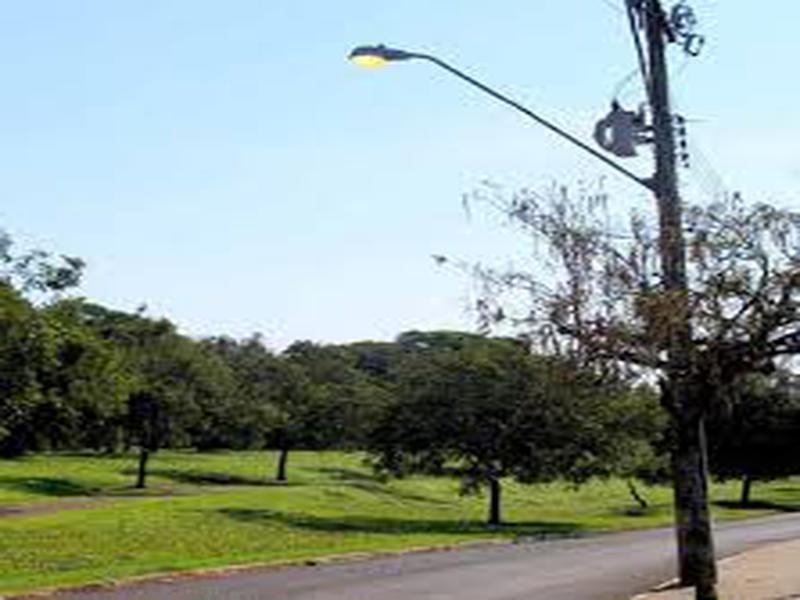IP: (340, 26, 598, 149)
